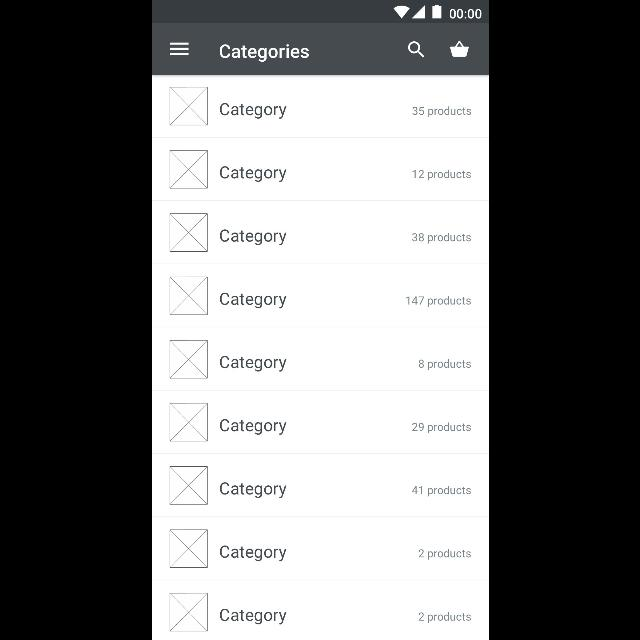icon: (449, 41, 468, 57), (169, 42, 189, 56), (408, 42, 424, 58)
image: (169, 592, 207, 632), (169, 86, 207, 125), (169, 151, 207, 189), (169, 214, 207, 252), (169, 277, 207, 315), (169, 341, 207, 379), (169, 403, 207, 441), (169, 466, 207, 504), (169, 530, 207, 568)
text: (219, 44, 309, 62), (220, 103, 286, 119), (220, 166, 286, 182), (220, 229, 286, 245), (220, 292, 286, 308), (220, 356, 286, 372), (220, 419, 286, 435), (220, 482, 286, 498), (220, 545, 286, 561), (220, 609, 286, 625), (412, 106, 472, 118), (411, 232, 471, 244), (405, 296, 471, 306), (412, 422, 471, 433), (418, 548, 472, 560), (412, 170, 472, 180), (411, 486, 471, 496), (418, 612, 472, 622), (419, 360, 471, 370)
uppertaskbar: (152, 1, 488, 23)
